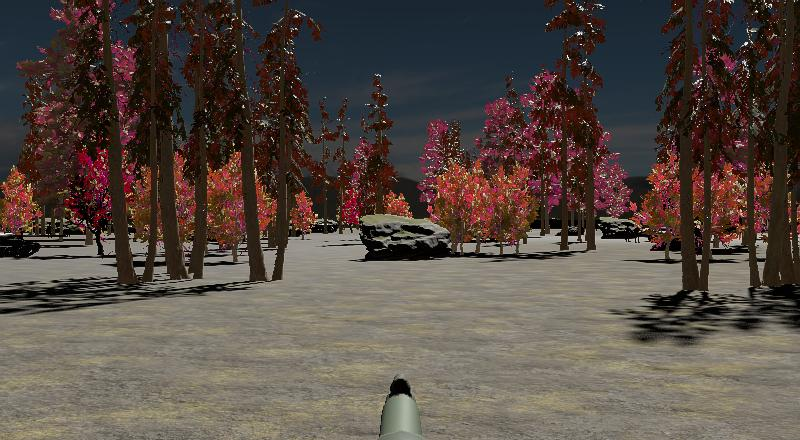Tank: (0, 230, 46, 260)
